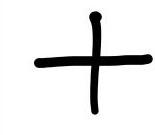plus: (34, 11, 152, 115)
